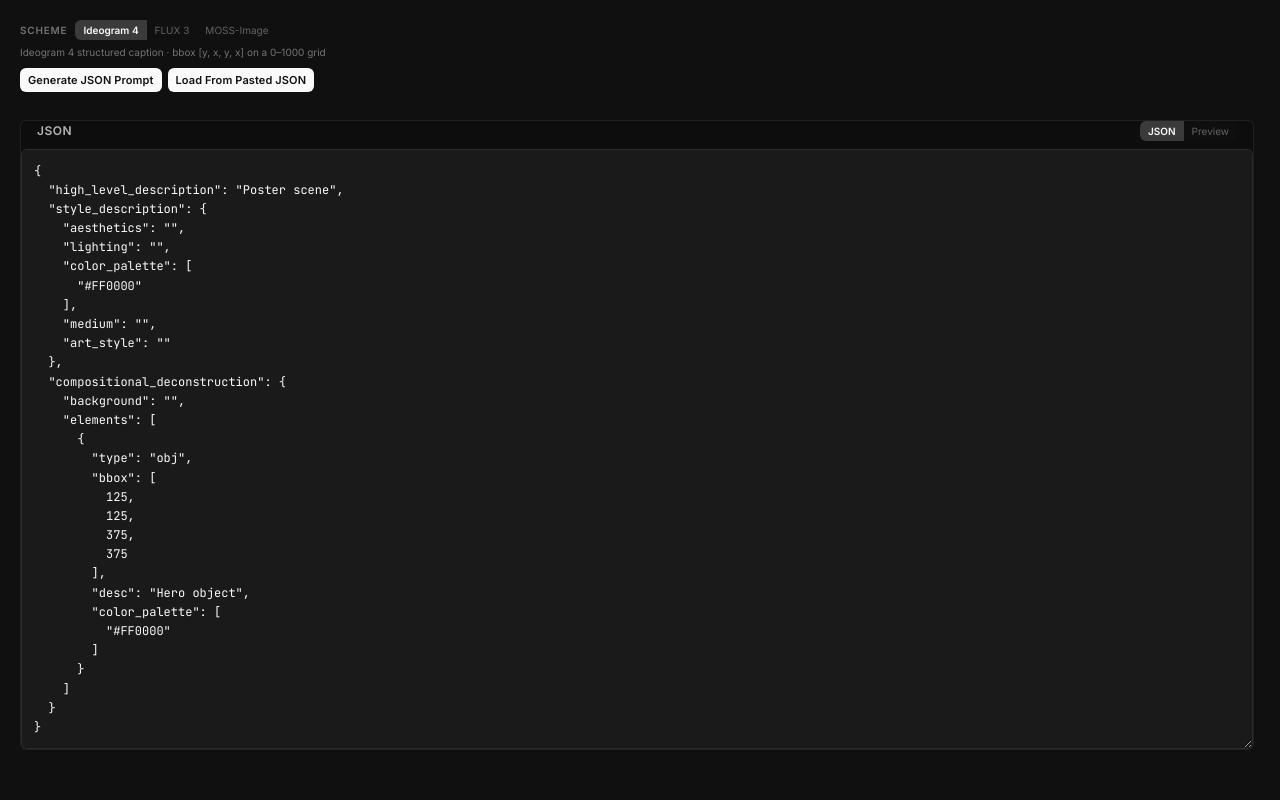
Scenario: JsonToolbar › Preview 跟随所选 scheme 解析对应结构
Click the radio button labelled "FLUX 3" at point(172, 30), box [146,20,197,40]
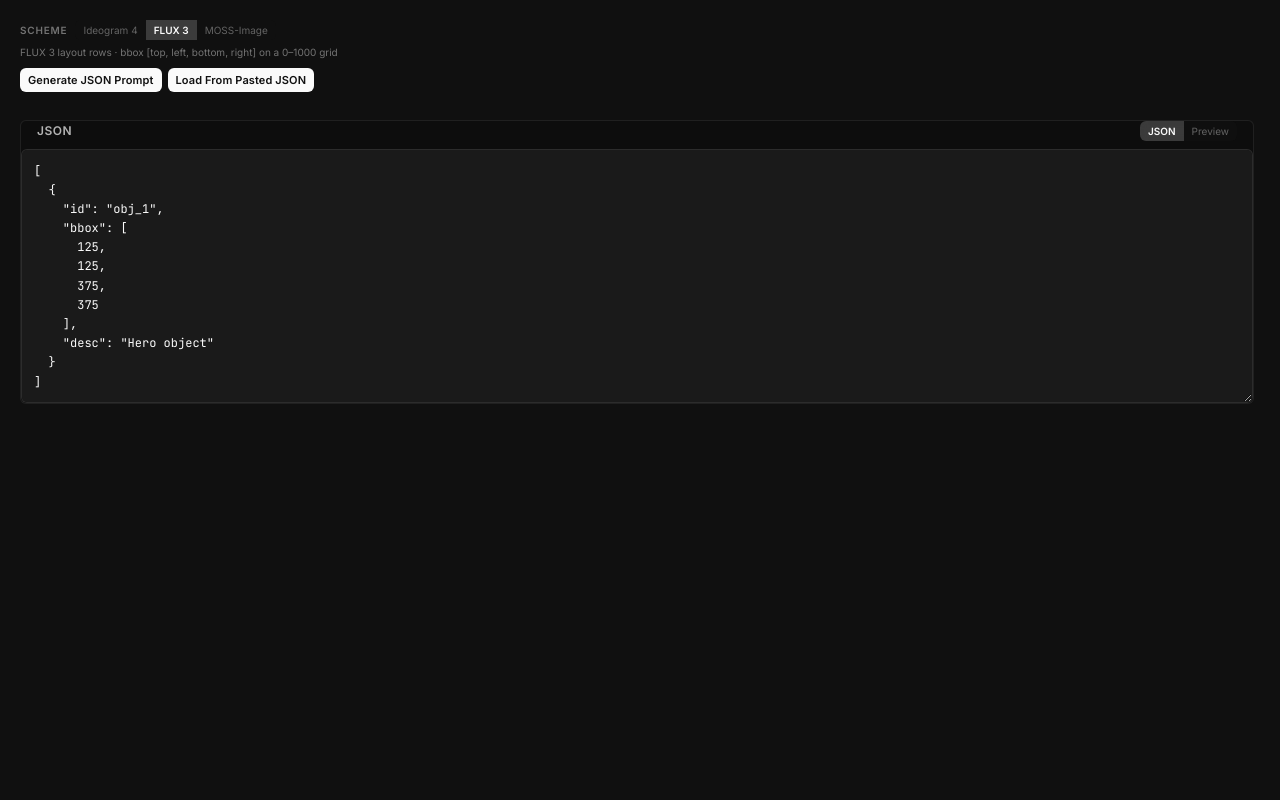
Click the tab "Preview" at point(1210, 130), box [1184,120,1237,140]
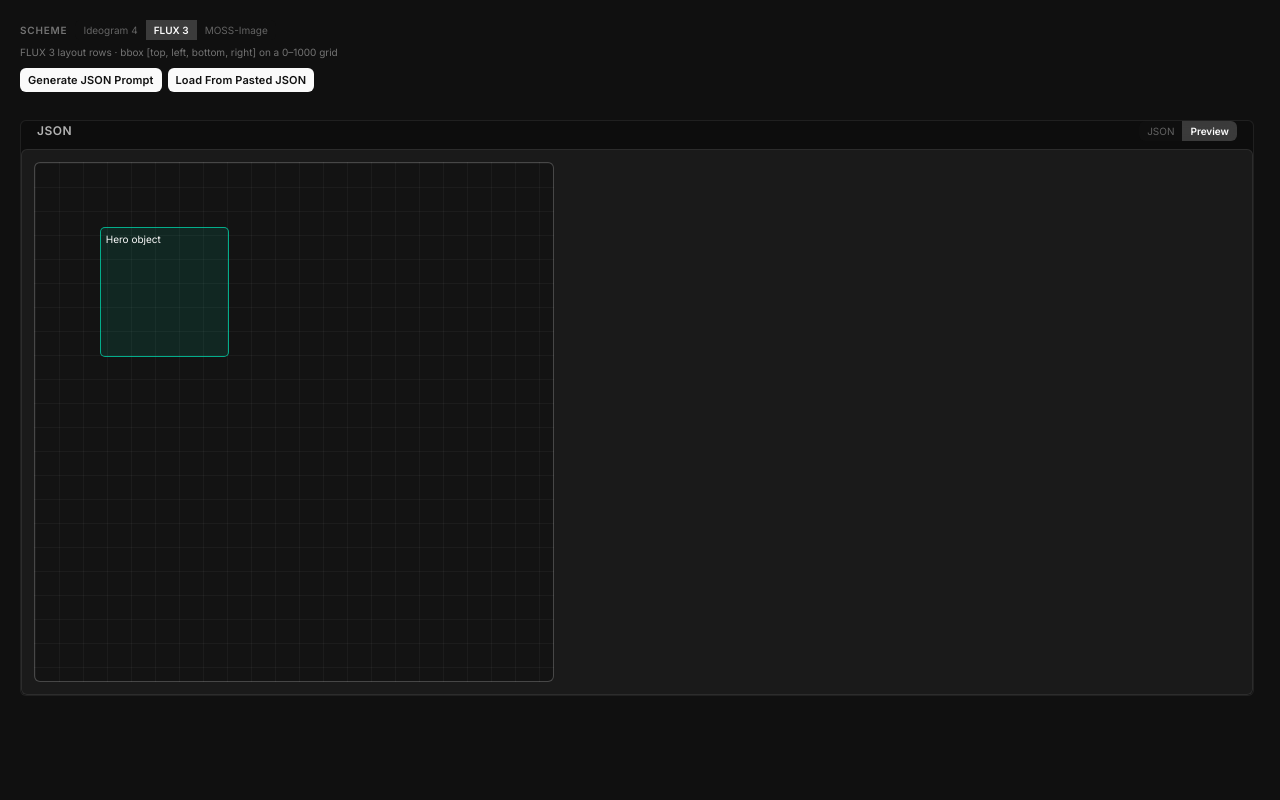
Check: the text "Hero object" is shown, box [106,233,161,245]
Check: the element with class "json-preview-canvas" is shown, box [34,162,554,682]
